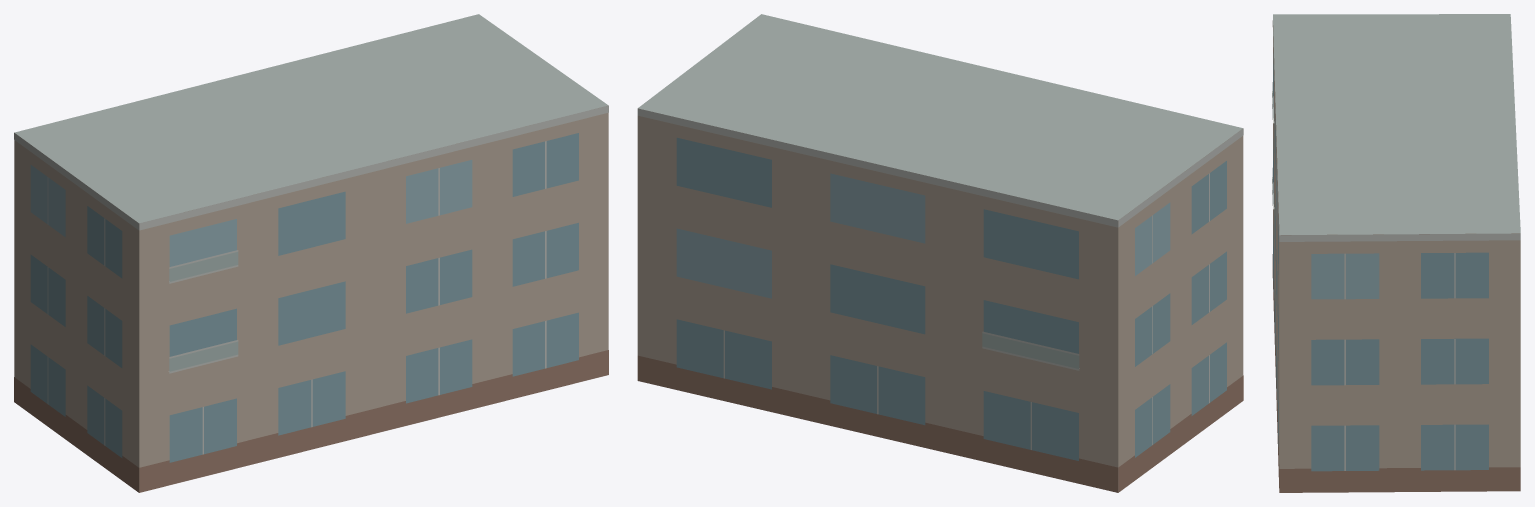
Rendered from survey-upis-33002372.glb.
The picture shows the model from 3 angles, left to right: view 1: azimuth 30°, elevation 25°; view 2: azimuth 150°, elevation 25°; view 3: azimuth 270°, elevation 25°; orthographic projection. The views are drawn at different scales.
Parts seen in each view (by area): view 1: survey-upis-33002372.tmp; view 2: survey-upis-33002372.tmp; view 3: survey-upis-33002372.tmp.
Boxes of the visible parts, bbox=[...] form: survey-upis-33002372.tmp: bbox=[14, 14, 608, 492]; survey-upis-33002372.tmp: bbox=[637, 14, 1243, 492]; survey-upis-33002372.tmp: bbox=[1272, 14, 1520, 492].
Size of the model in its own units: 16.84 by 9.15 by 8.01.
